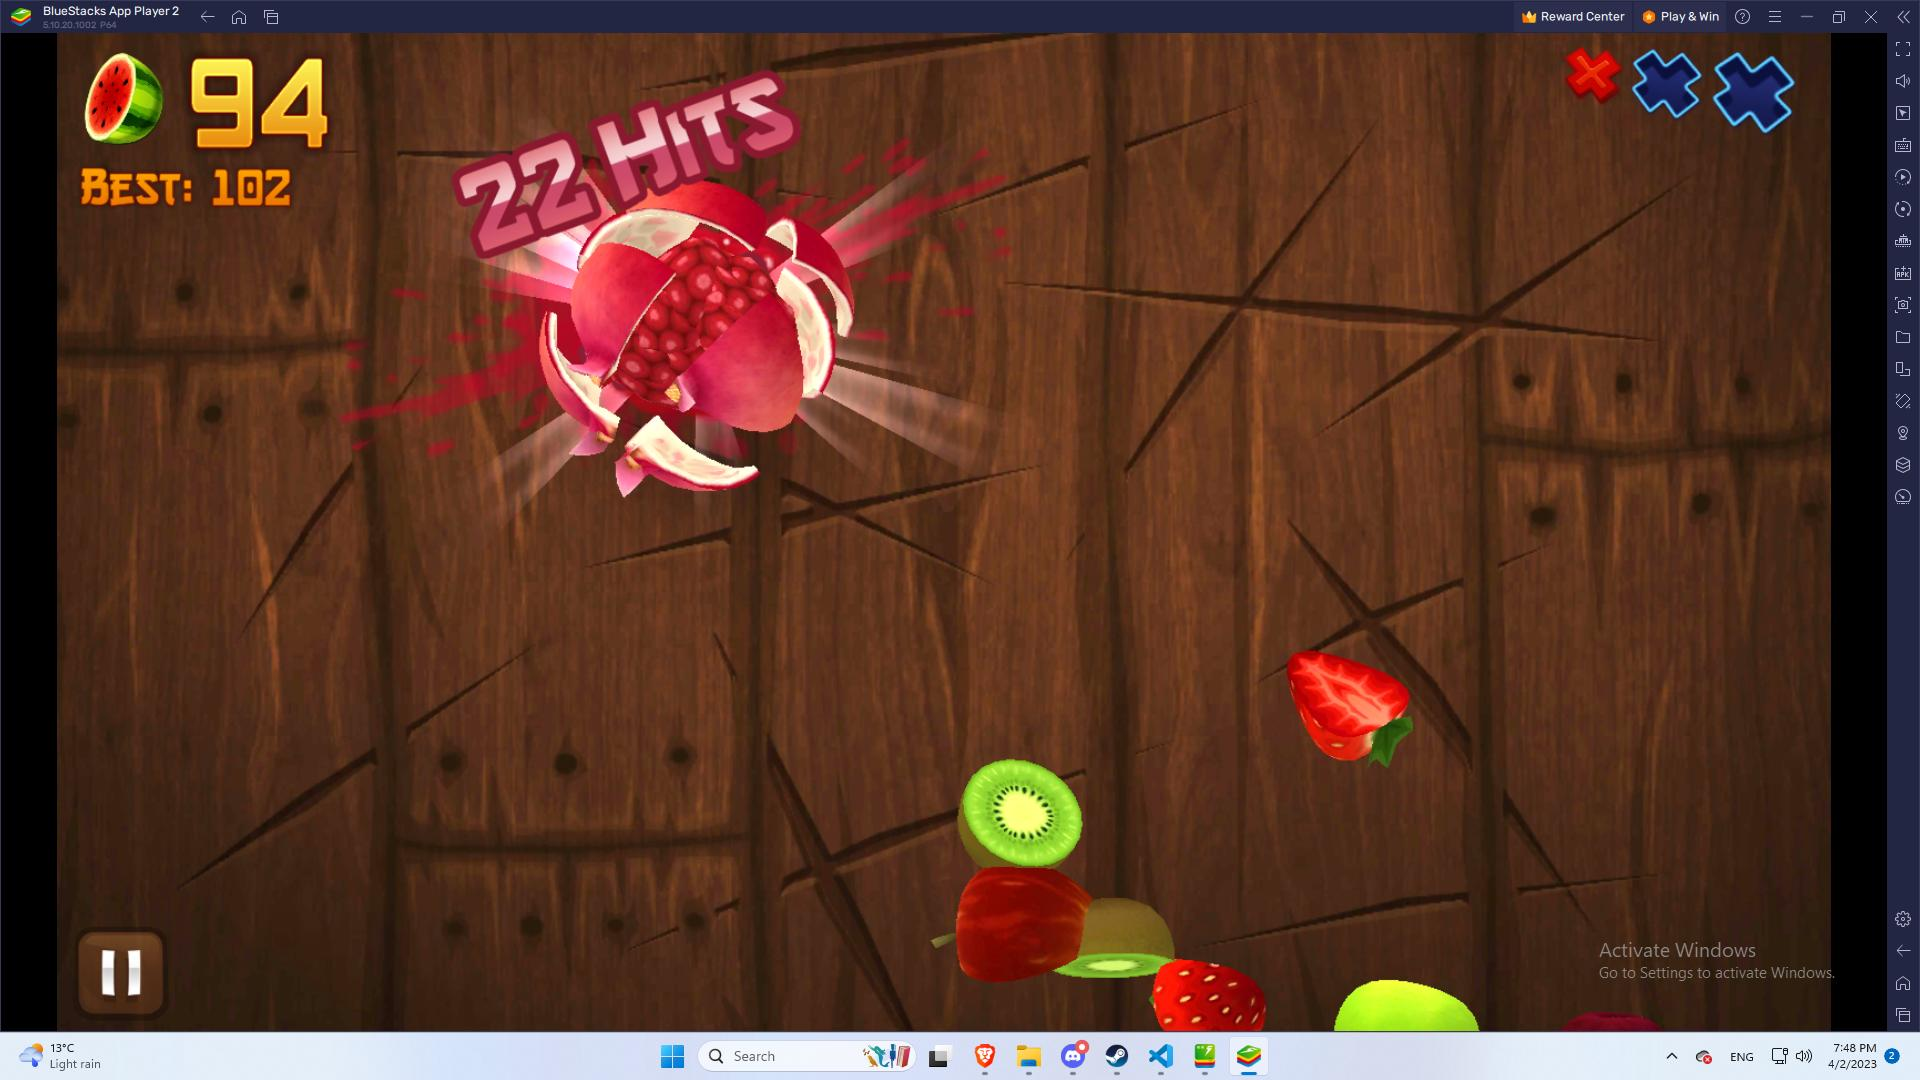fruit: (930, 872, 1098, 968)
